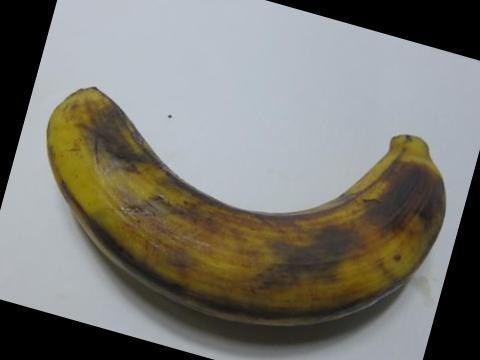overripe: (45, 77, 466, 348)
